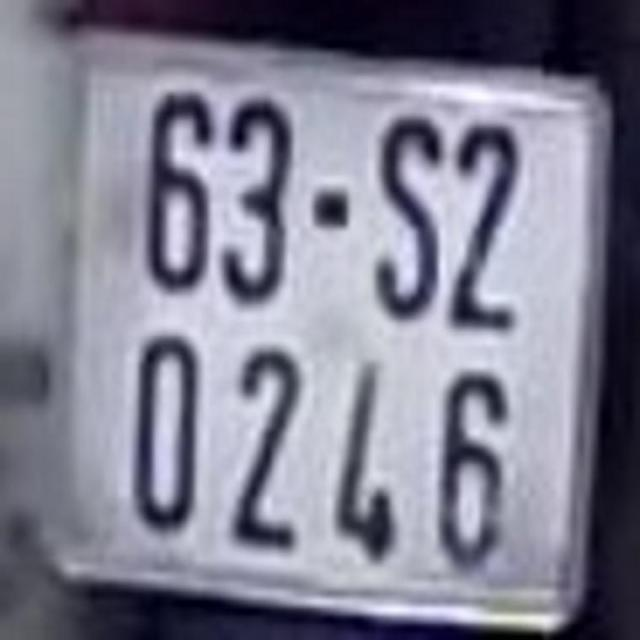0: (133, 337, 200, 522)
2: (452, 122, 522, 328), (236, 350, 296, 550)
3: (226, 100, 288, 306)
4: (338, 360, 396, 554)
6: (433, 366, 506, 574), (143, 89, 214, 290)
S: (370, 111, 442, 322)
